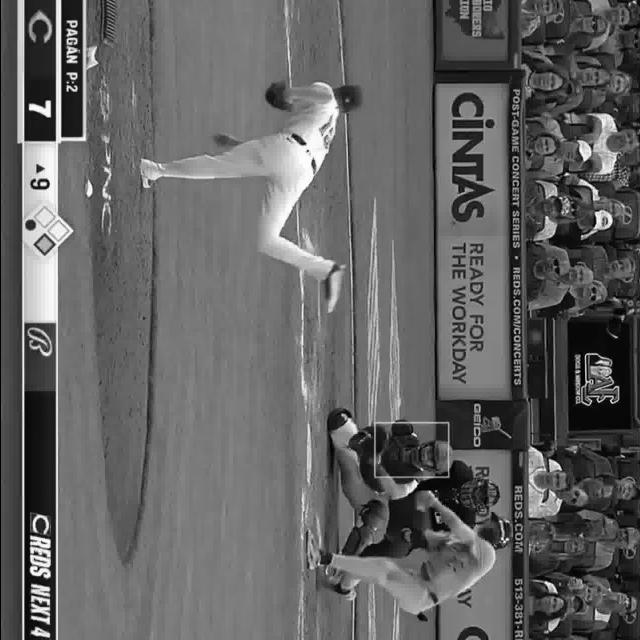base: (303, 424, 315, 486)
baseball: (392, 398, 400, 408)
baseball_glove: (346, 422, 386, 464), (265, 82, 295, 116)
shoe: (320, 262, 346, 313), (298, 528, 322, 568), (316, 580, 348, 602), (136, 161, 158, 189)
